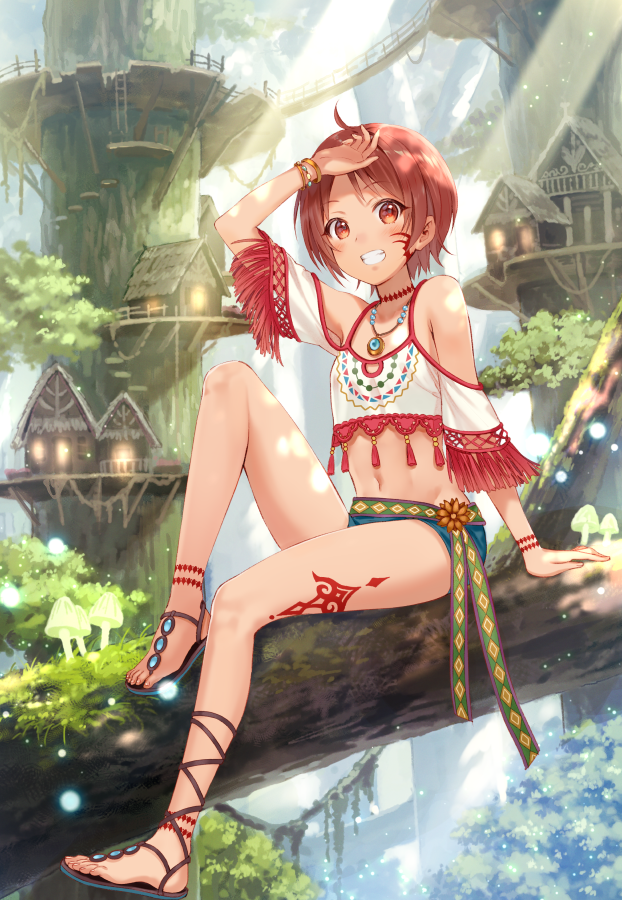纸片人正脸: (284, 125, 457, 289)
